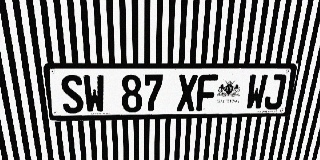7: (143, 75, 163, 112)
8: (121, 75, 142, 112)
F: (196, 74, 218, 111)
J: (263, 74, 287, 110)
S: (59, 75, 85, 114)
W: (82, 75, 106, 113), (245, 74, 268, 110)
X: (176, 74, 198, 111)
